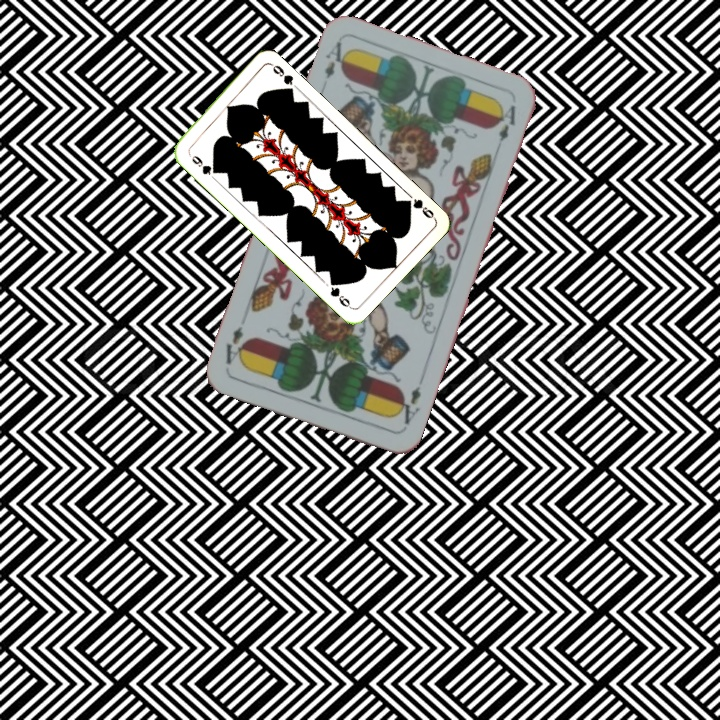EA: (392, 382, 424, 431), (320, 37, 352, 81)
G9: (184, 149, 220, 178), (400, 194, 438, 221)
